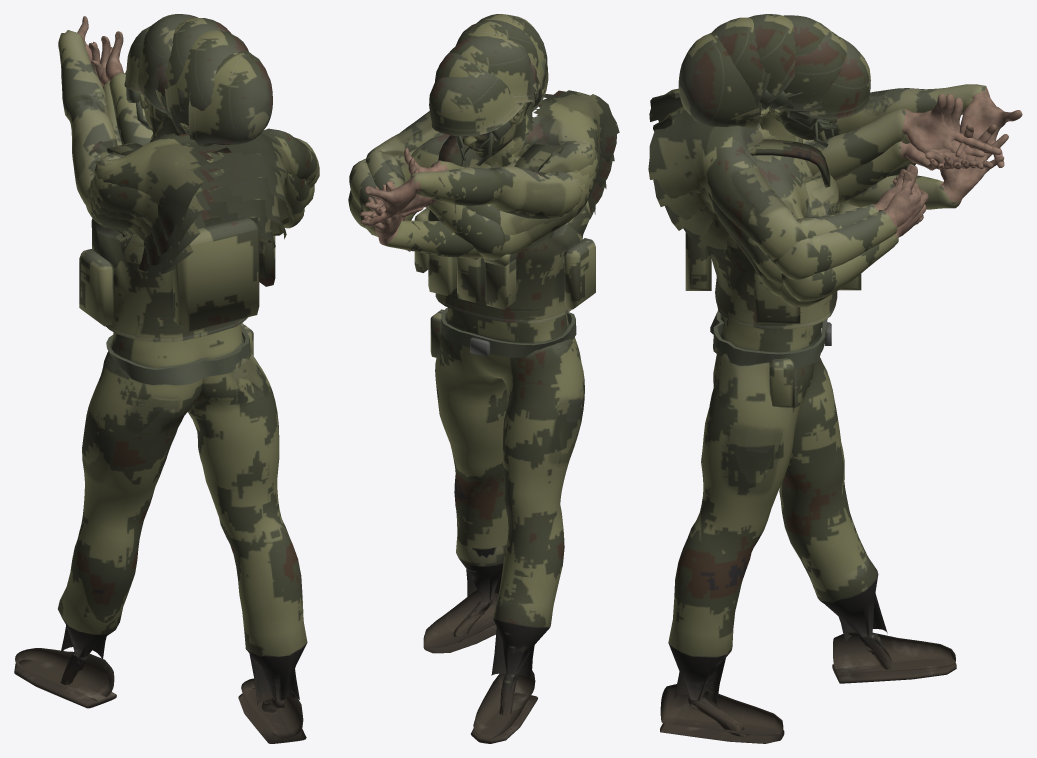
The model's file is crew_iglas.glb.
3 views of the same model, side by side, from view 1: azimuth 30°, elevation 25°; view 2: azimuth 150°, elevation 25°; view 3: azimuth 270°, elevation 25° (orthographic). The views are drawn at different scales.
Visible parts, largest first — view 1: turret, ca5, th5, ca0, ca4, ca3, th4, ca2, th2, th3, th0, ca1; view 2: turret, ca0, ca5, th0, ca2, ca1, th2, th3, th4, ca3, th1, ca4 (+1 smaller); view 3: turret, ca5, ca0, ca2, th5, ca4, ca1, th0, th1, th3, th4, ca3 (+1 smaller).
Boxes of the visible parts, bbox=[...] form: turret: bbox=[14, 142, 307, 743]; ca5: bbox=[94, 31, 318, 248]; th5: bbox=[150, 50, 272, 154]; ca0: bbox=[58, 16, 314, 236]; ca4: bbox=[91, 60, 309, 255]; ca3: bbox=[89, 36, 304, 268]; th4: bbox=[155, 30, 248, 137]; ca2: bbox=[85, 42, 319, 278]; th2: bbox=[137, 14, 197, 124]; th3: bbox=[155, 17, 230, 138]; th0: bbox=[124, 26, 212, 172]; ca1: bbox=[93, 42, 304, 280]; turret: bbox=[414, 135, 595, 743]; ca0: bbox=[348, 135, 582, 233]; ca5: bbox=[365, 90, 619, 251]; th0: bbox=[429, 71, 525, 165]; ca2: bbox=[349, 132, 595, 260]; ca1: bbox=[363, 134, 566, 258]; th2: bbox=[449, 36, 537, 158]; th3: bbox=[456, 20, 538, 165]; th4: bbox=[477, 14, 547, 168]; ca3: bbox=[374, 117, 606, 224]; th1: bbox=[435, 52, 529, 164]; ca4: bbox=[365, 105, 614, 218]; turret: bbox=[660, 130, 956, 743]; ca5: bbox=[648, 88, 983, 260]; ca0: bbox=[765, 84, 1022, 301]; ca2: bbox=[683, 97, 1001, 280]; th5: bbox=[678, 32, 803, 143]; ca4: bbox=[653, 105, 985, 284]; ca1: bbox=[707, 124, 1008, 307]; th0: bbox=[775, 37, 870, 147]; th1: bbox=[768, 31, 847, 140]; th3: bbox=[748, 14, 799, 142]; th4: bbox=[712, 17, 801, 142]; ca3: bbox=[665, 94, 992, 296].
Bounding box in the file's own units: 0.6648 × 1.82 × 0.8943.
1 material, 1 textured.
